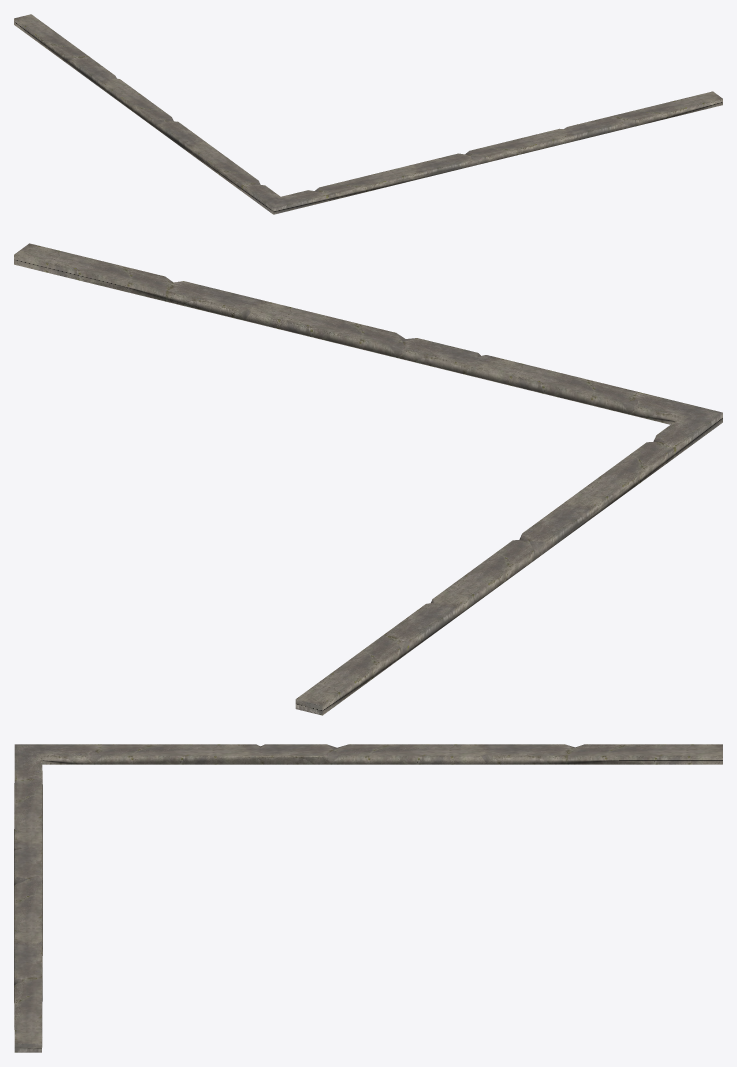
The model's file is kerb_125x900_corner.glb.
3 views of the same model, one above another, from view 1: azimuth 30°, elevation 25°; view 2: azimuth 150°, elevation 25°; view 3: azimuth 270°, elevation 25° (orthographic). The views are drawn at different scales.
Parts seen in each view (by area): view 1: kerb_125x900_corner; view 2: kerb_125x900_corner; view 3: kerb_125x900_corner.
Part boxes in pixels (x1,y1,x2,y2): kerb_125x900_corner: [14, 14, 722, 214]; kerb_125x900_corner: [14, 243, 722, 715]; kerb_125x900_corner: [14, 744, 722, 1052].
Size of the model in its own units: 9.24 by 0.1268 by 9.24.
Materials: 1 (1 with a texture image).
